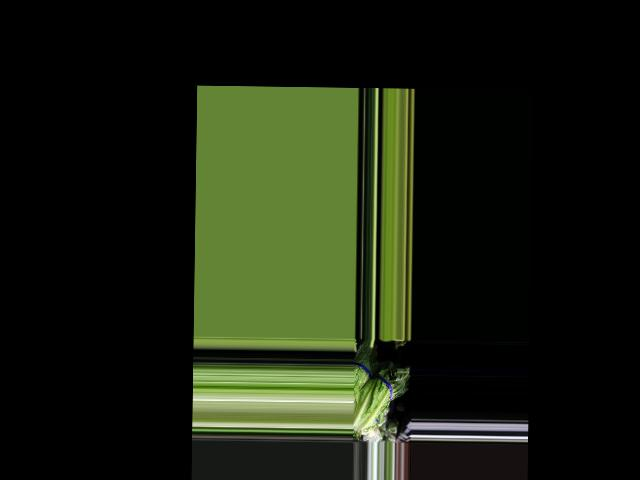lettuce: (352, 362, 406, 427)
